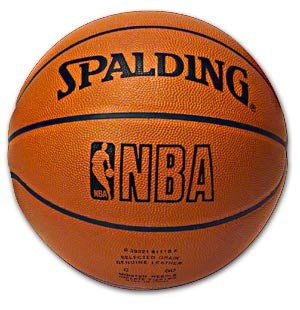basketball: (8, 11, 289, 291)
